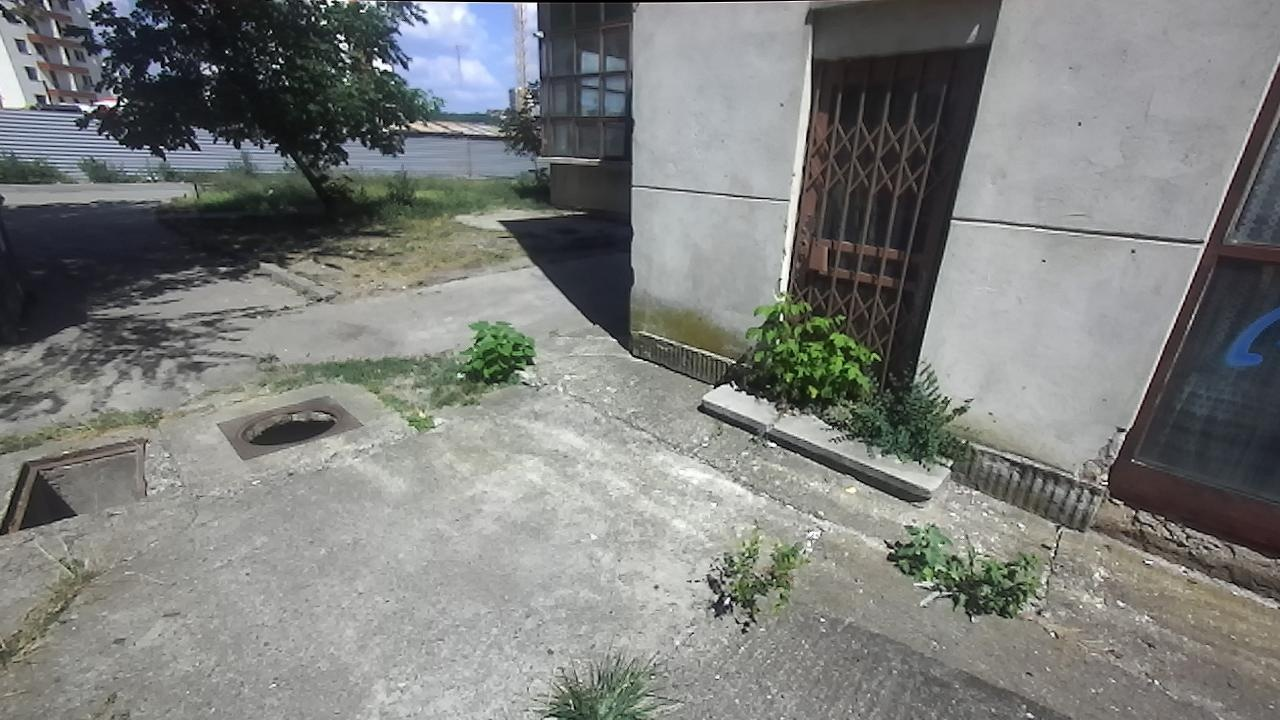drain: (0, 437, 148, 539), (231, 404, 356, 450)
